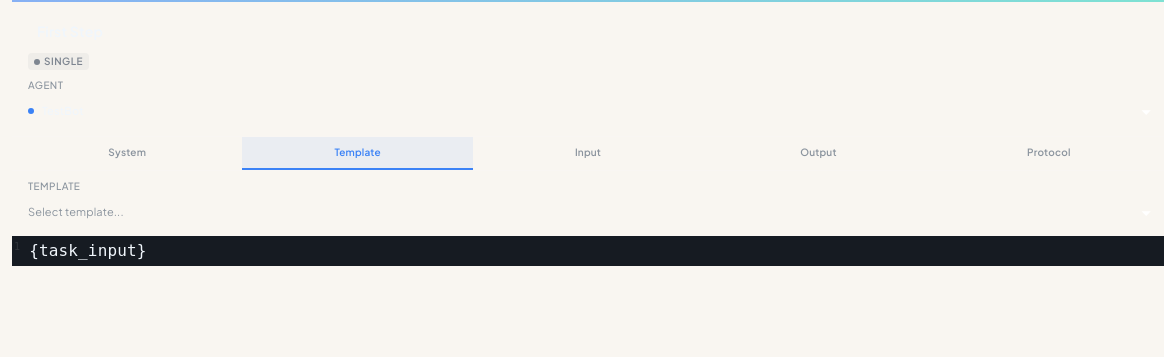
Test case: StepProperties › output tab › renders downstream steps in Outgoing section
The image size is (1164, 357).
Click the tab "Output".
click(818, 152)  # box left=800, top=146, right=837, bottom=158
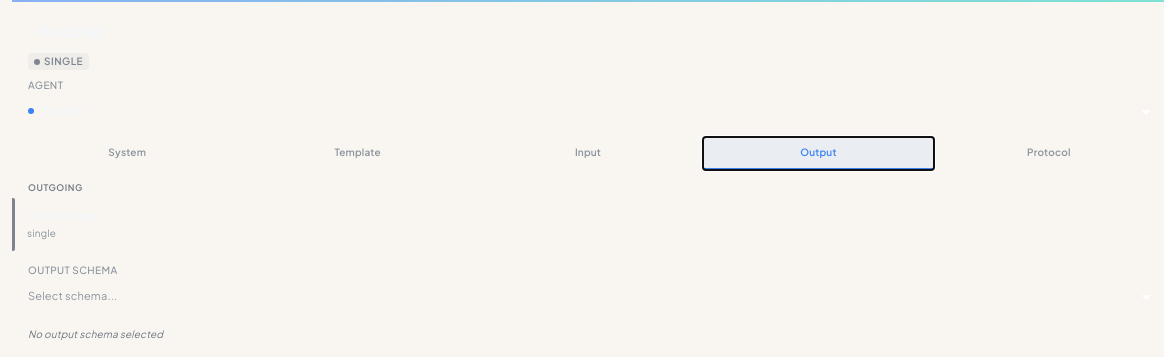
Expected: the text "Outgoing" is shown, left=28, top=182, right=83, bottom=193
